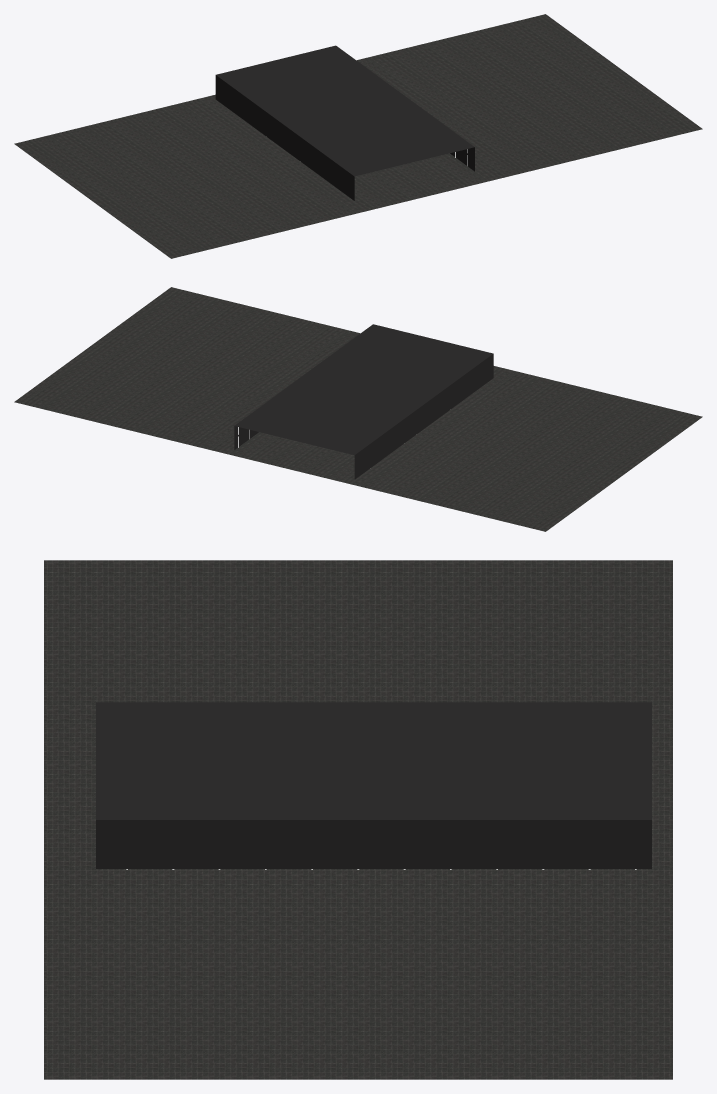
The model's file is studio.glb.
3 renders of one model, top to bottom at view 1: azimuth 30°, elevation 25°; view 2: azimuth 150°, elevation 25°; view 3: azimuth 270°, elevation 25°, orthographic. The views are drawn at different scales.
Visible parts, largest first — view 1: ground_TilesSlateSquare001_2K_0, wall_Material_0; view 2: ground_TilesSlateSquare001_2K_0, wall_Material_0; view 3: ground_TilesSlateSquare001_2K_0, wall_Material_0.
Part boxes in pixels (left/top/right/bottom): ground_TilesSlateSquare001_2K_0: left=14, top=14, right=702, bottom=258; wall_Material_0: left=215, top=45, right=474, bottom=200; ground_TilesSlateSquare001_2K_0: left=14, top=287, right=702, bottom=531; wall_Material_0: left=234, top=324, right=493, bottom=479; ground_TilesSlateSquare001_2K_0: left=44, top=560, right=672, bottom=1079; wall_Material_0: left=96, top=702, right=651, bottom=868.
Size of the model in its own units: 177 by 7.93 by 90.49.
Materials: 3 (1 with a texture image).
